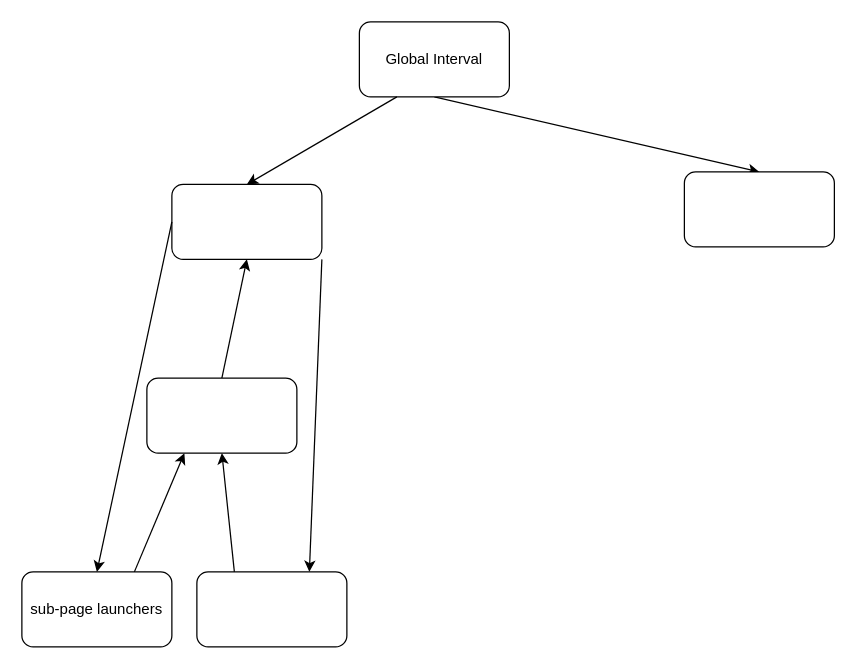
This 856x669 diagram has some shape labels left out. Here are the shapes that lost their labels. From the top down, the box of each, then its label:
(171, 183, 322, 259): Page status
(146, 377, 297, 453): collector
